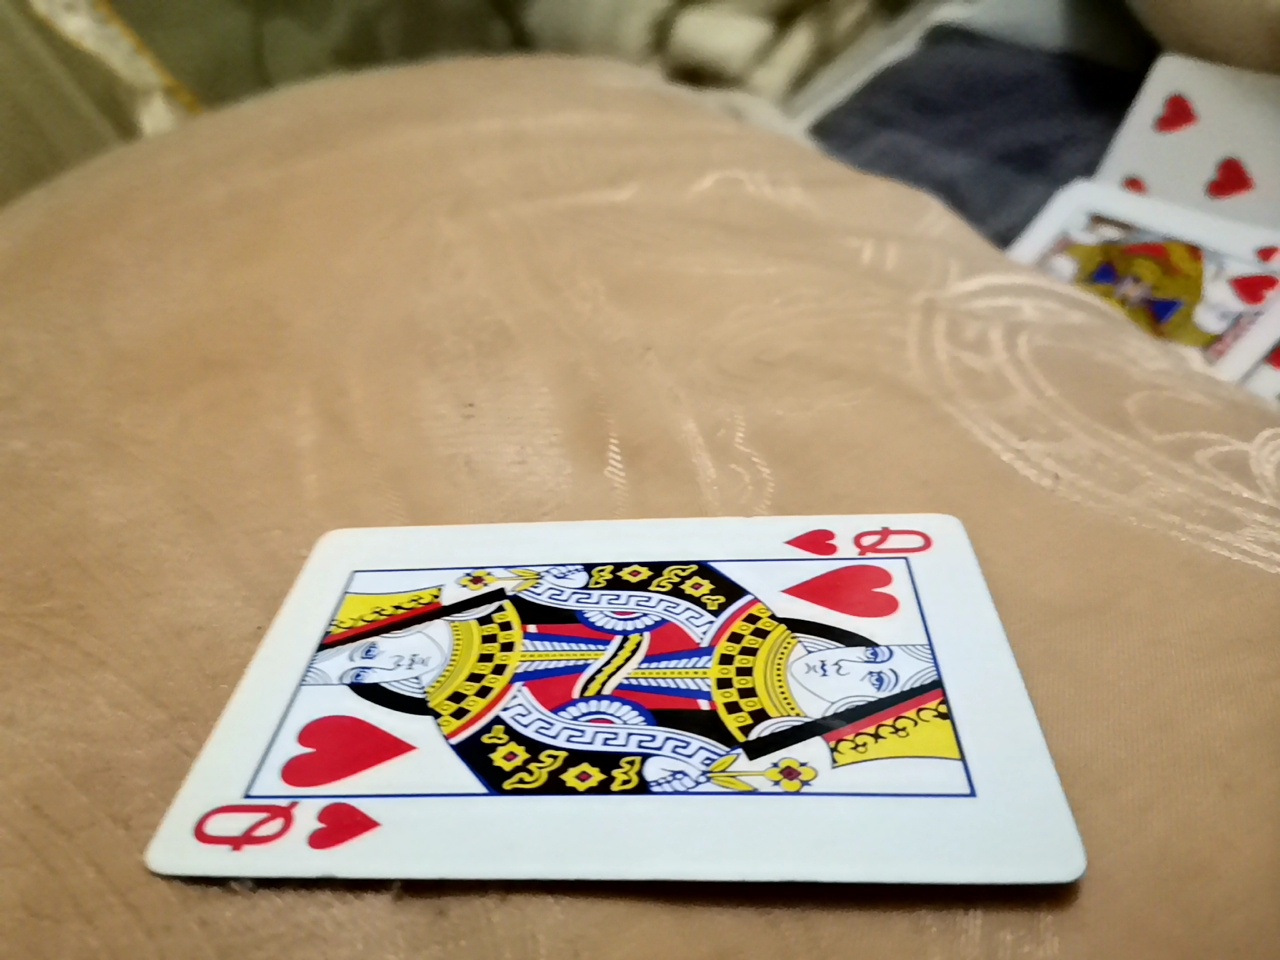hx q: (165, 501, 1083, 890)
